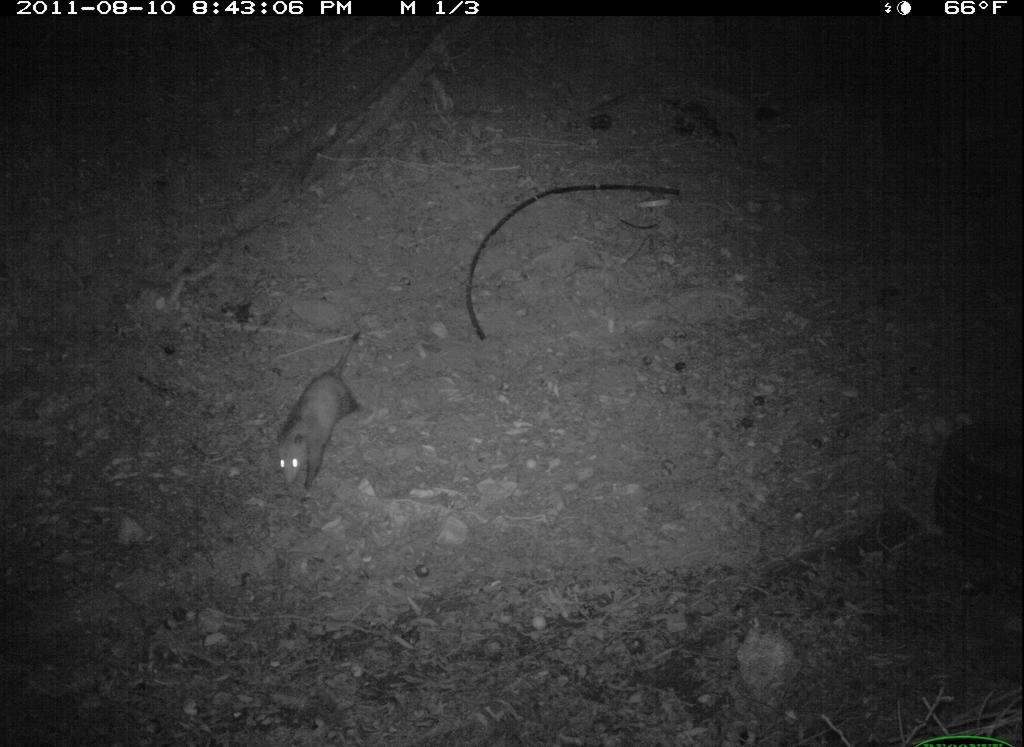opossum: (260, 321, 377, 501)
